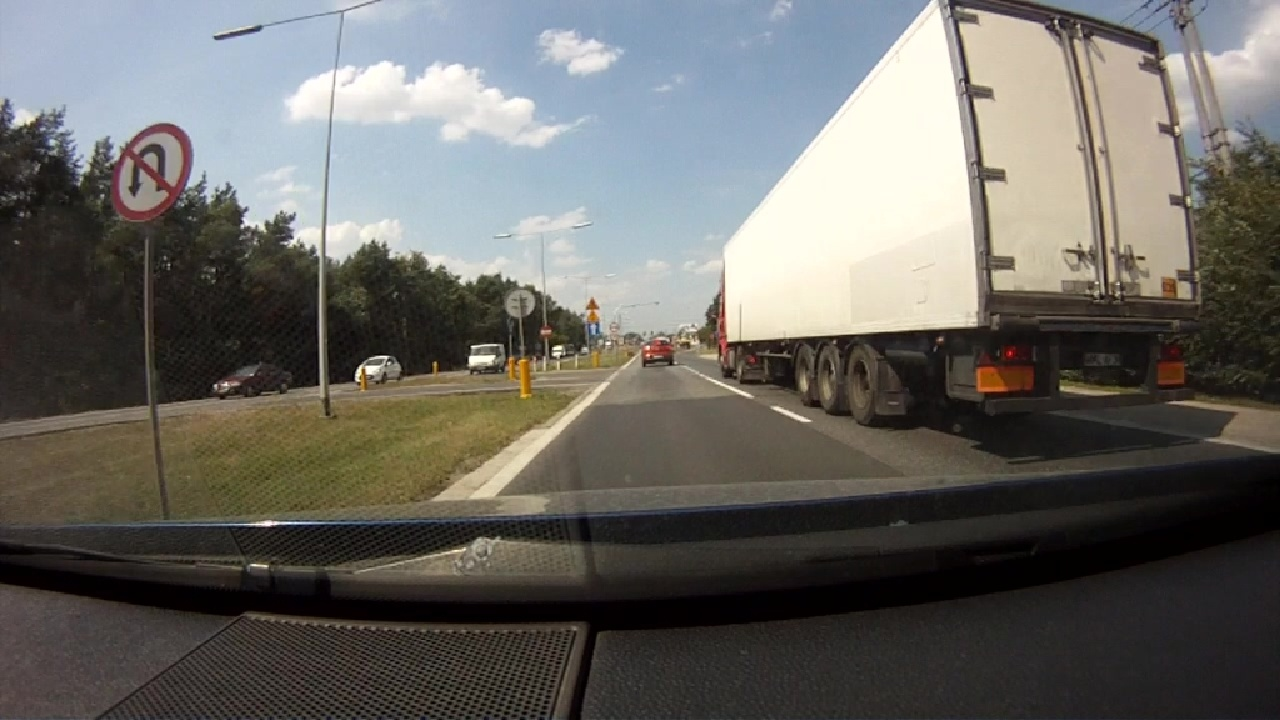B23: (112, 123, 194, 222)
